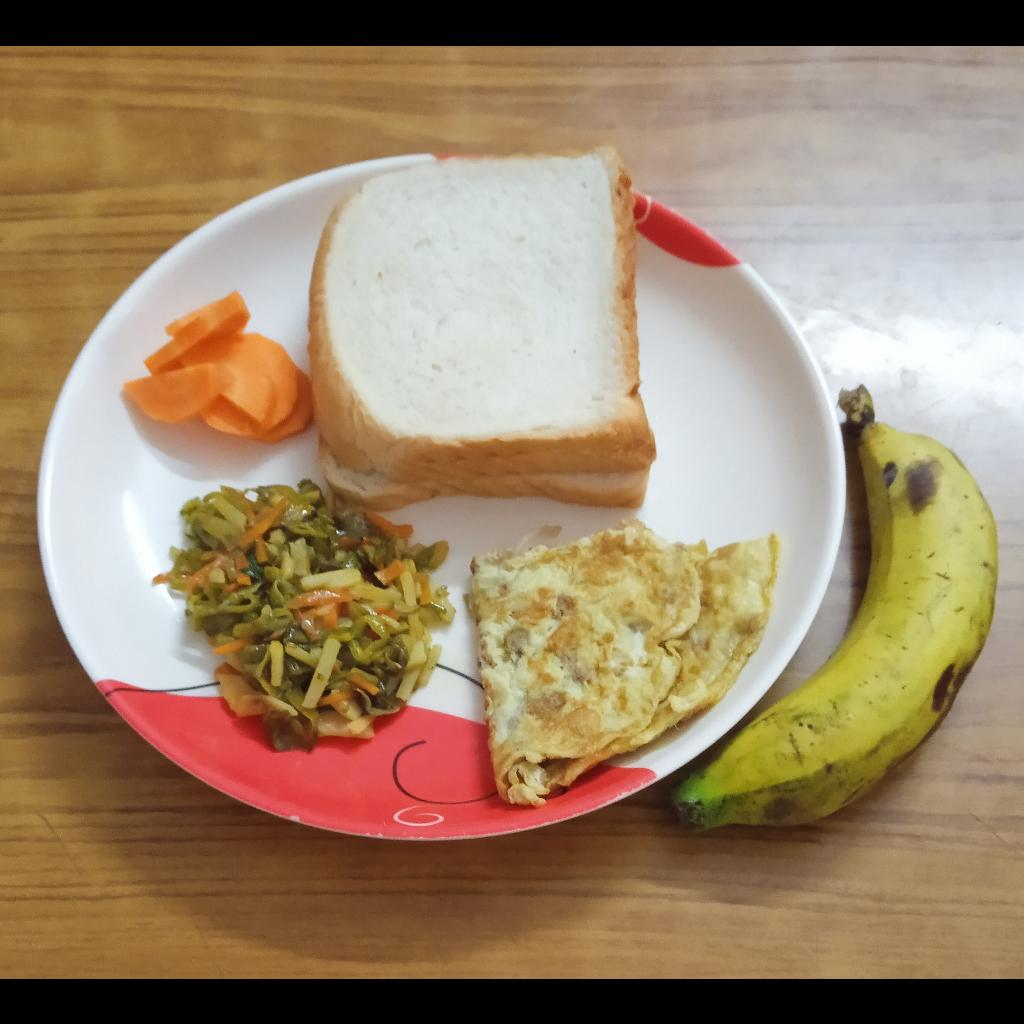banana: (672, 415, 999, 834)
bread: (308, 143, 655, 511)
carrot: (123, 288, 310, 444)
egg-poached: (470, 518, 779, 803)
vegetable: (152, 477, 458, 753)
